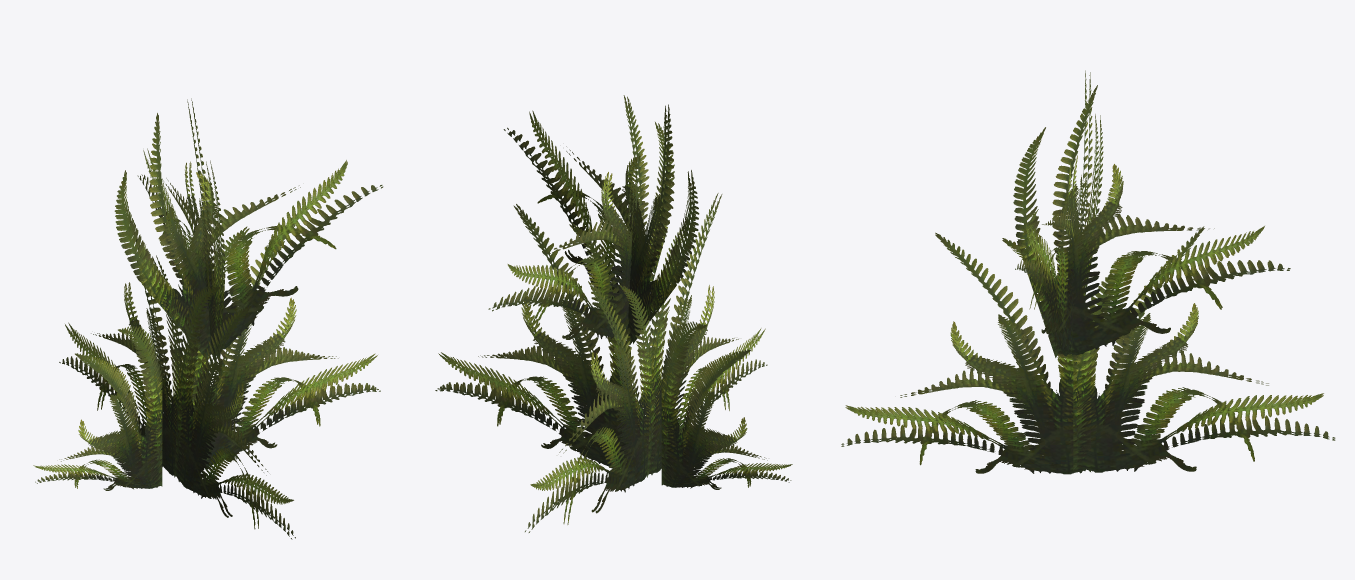
File: frst_fern_olive_tall_l4.fbx
The picture shows the model from 3 angles, left to right: view 1: azimuth 30°, elevation 25°; view 2: azimuth 150°, elevation 25°; view 3: azimuth 270°, elevation 25°; orthographic projection. The views are drawn at different scales.
Parts seen in each view (by area): view 1: mesh_node; view 2: mesh_node; view 3: mesh_node.
Boxes of the visible parts, <box> form: mesh_node: <box>33,98,383,539</box>; mesh_node: <box>435,95,792,532</box>; mesh_node: <box>841,70,1335,474</box>.
Size of the model in its own units: 3.31 by 3.86 by 3.69.
